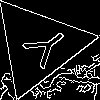Y: (14, 20, 74, 76)
